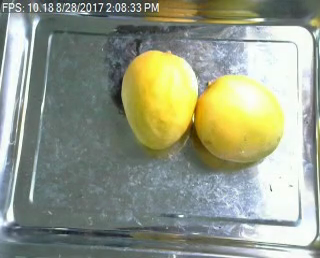Mango: (195, 74, 285, 162), (119, 50, 197, 149)
